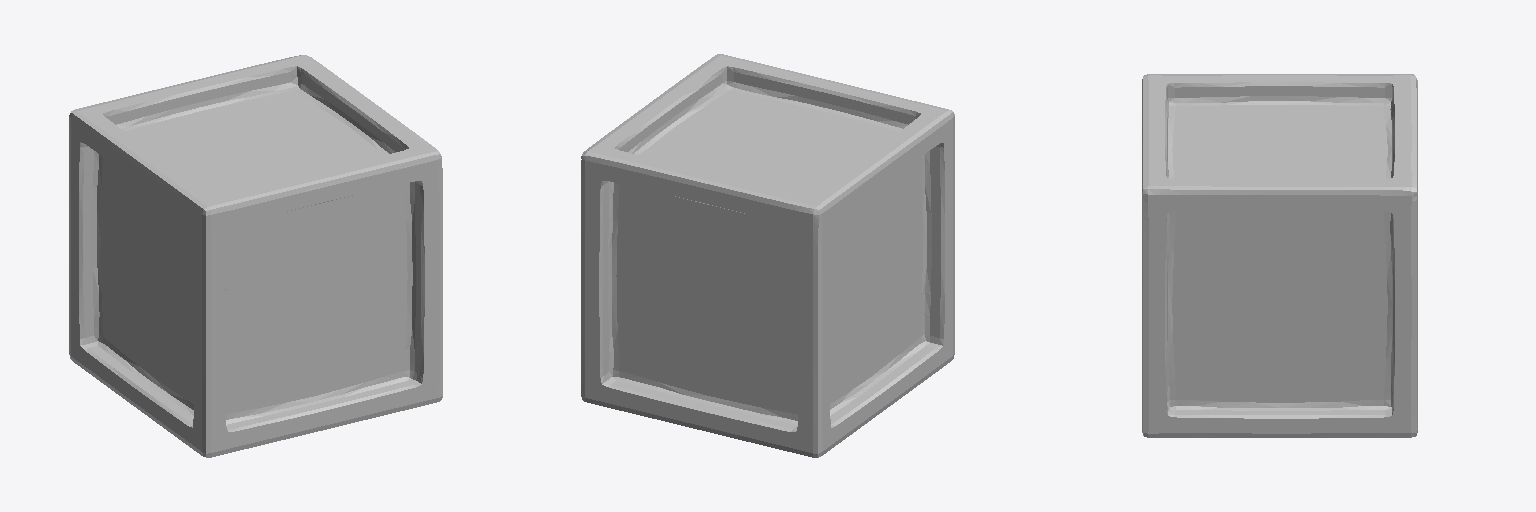
Rendered from crate.OBJ.
The picture shows the model from 3 angles: view 1: azimuth 30°, elevation 25°; view 2: azimuth 150°, elevation 25°; view 3: azimuth 270°, elevation 25°; orthographic projection.
Parts seen in each view (by area): view 1: Group62162; view 2: Group62162; view 3: Group62162.
Part boxes in pixels (x1,y1,x2,y2): Group62162: (69,55,442,457); Group62162: (581,54,954,457); Group62162: (1142,74,1417,437).
Bounding box in the file's own units: 1.29 × 1.29 × 1.29.